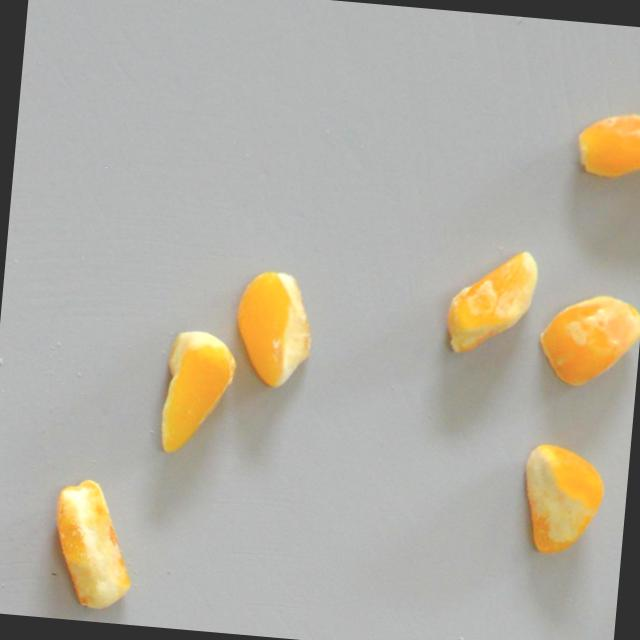estandar: (512, 440, 610, 561), (230, 266, 319, 392)
pelicula: (27, 493, 169, 594), (129, 340, 260, 444), (438, 245, 542, 359), (541, 283, 640, 401), (600, 74, 640, 209)
